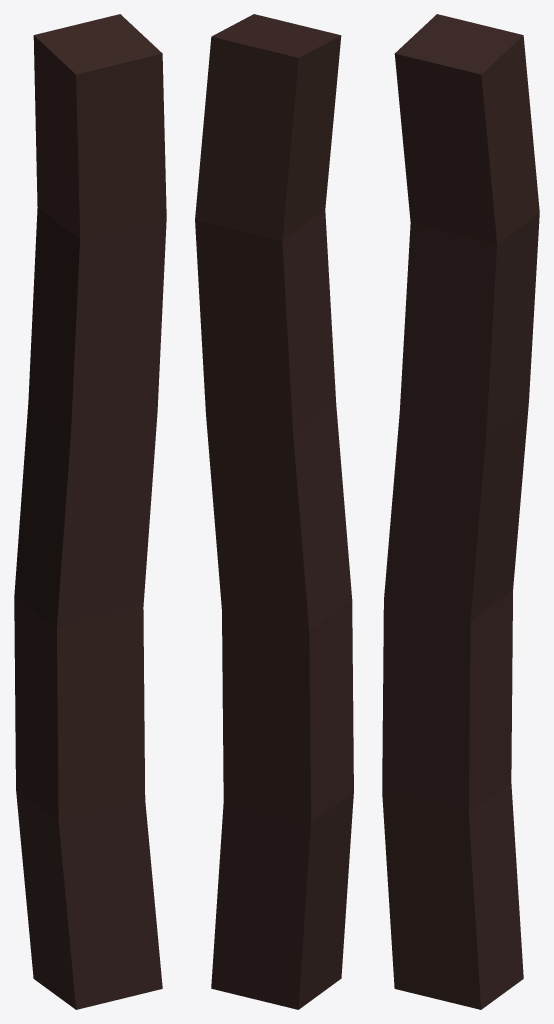
Rendered from fence_post1.fbx.
3 renders of one model, left to right at view 1: azimuth 30°, elevation 25°; view 2: azimuth 150°, elevation 25°; view 3: azimuth 330°, elevation 25°, orthographic.
Visible parts, largest first — view 1: fence_p1; view 2: fence_p1; view 3: fence_p1.
Boxes of the visible parts, x1,y1,x2,y2 form: fence_p1: [14, 14, 166, 1009]; fence_p1: [195, 14, 353, 1009]; fence_p1: [382, 14, 539, 1009].
Bounding box in the file's own units: 0.1171 × 0.9466 × 0.0884.
